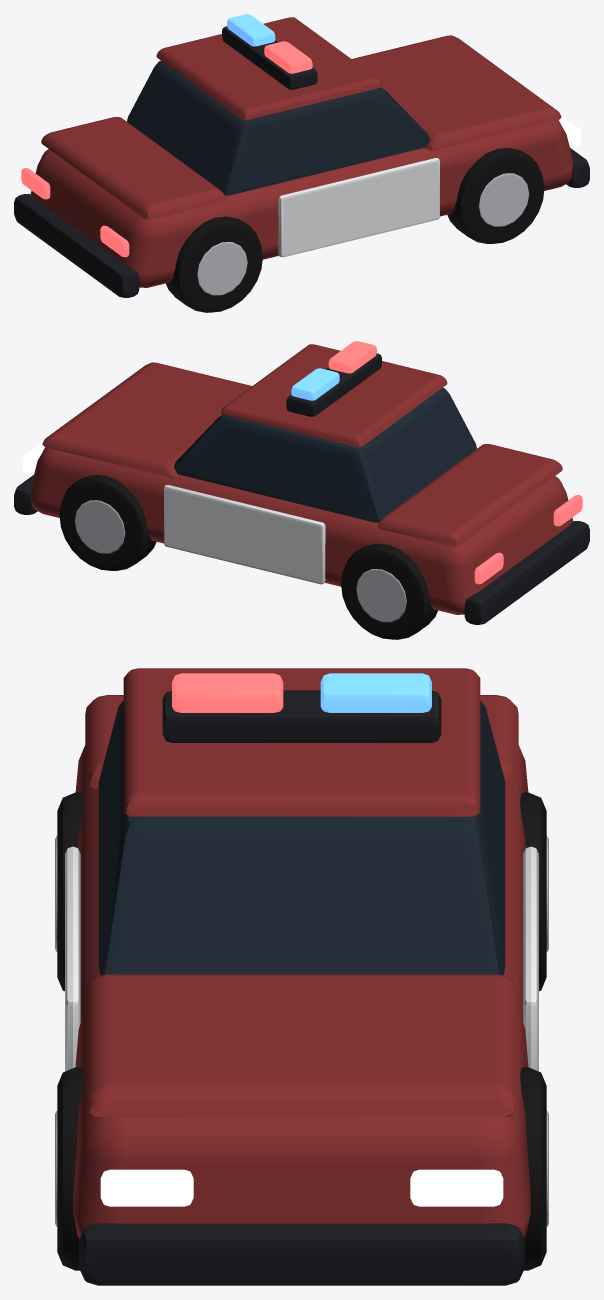
File: police.glb
The picture shows the model from 3 angles, top to bottom: view 1: azimuth 30°, elevation 25°; view 2: azimuth 150°, elevation 25°; view 3: azimuth 270°, elevation 25°; orthographic projection. The views are drawn at different scales.
Visible parts, largest first — view 1: cabin, body, hood, roof, door-white--1, trunk, wheel-+10--1-tyre, wheel--10--1-tyre, bumper-rear, wheel-+10--1-hub, wheel--10--1-hub, lightbar (+5 smaller); view 2: cabin, body, hood, roof, door-white-1, trunk, wheel-+10-1-tyre, wheel--10-1-tyre, bumper-rear, wheel-+10-1-hub, wheel--10-1-hub, lightbar (+5 smaller); view 3: cabin, hood, body, roof, bumper-front, lightbar, trunk, beacon-blue, beacon-red, wheel-+10-1-tyre, wheel-+10--1-tyre, headlight-1 (+5 smaller).
Boxes of the visible parts, <box> form: cabin: <box>127,60,429,195</box>; body: <box>30,120,573,287</box>; hood: <box>352,35,561,150</box>; roof: <box>156,17,382,120</box>; door-white--1: <box>278,158,439,257</box>; trunk: <box>41,117,225,219</box>; wheel-+10--1-tyre: <box>447,148,544,243</box>; wheel--10--1-tyre: <box>166,216,262,312</box>; bumper-rear: <box>14,194,139,297</box>; wheel-+10--1-hub: <box>478,173,529,226</box>; wheel--10--1-hub: <box>197,242,247,295</box>; lightbar: <box>222,26,317,89</box>; cabin: <box>174,387,476,522</box>; body: <box>30,447,573,614</box>; hood: <box>42,362,251,477</box>; roof: <box>221,344,447,447</box>; door-white-1: <box>164,485,325,584</box>; trunk: <box>378,444,562,546</box>; wheel-+10-1-tyre: <box>59,475,156,570</box>; wheel--10-1-tyre: <box>341,543,437,639</box>; bumper-rear: <box>464,521,589,624</box>; wheel-+10-1-hub: <box>74,500,125,553</box>; wheel--10-1-hub: <box>356,569,406,622</box>; lightbar: <box>286,353,381,416</box>; cabin: <box>98,700,505,975</box>; hood: <box>85,974,518,1116</box>; body: <box>73,745,530,1238</box>; roof: <box>123,668,480,816</box>; bumper-front: <box>79,1223,524,1285</box>; lightbar: <box>162,690,441,742</box>; trunk: <box>85,695,518,788</box>; beacon-blue: <box>320,673,431,712</box>; beacon-red: <box>172,673,283,712</box>; wheel-+10-1-tyre: <box>520,1067,546,1270</box>; wheel-+10--1-tyre: <box>57,1067,83,1270</box>; headlight-1: <box>410,1169,503,1206</box>.
Bounding box in the file's own units: 35.2 × 14.65 × 15.96.
